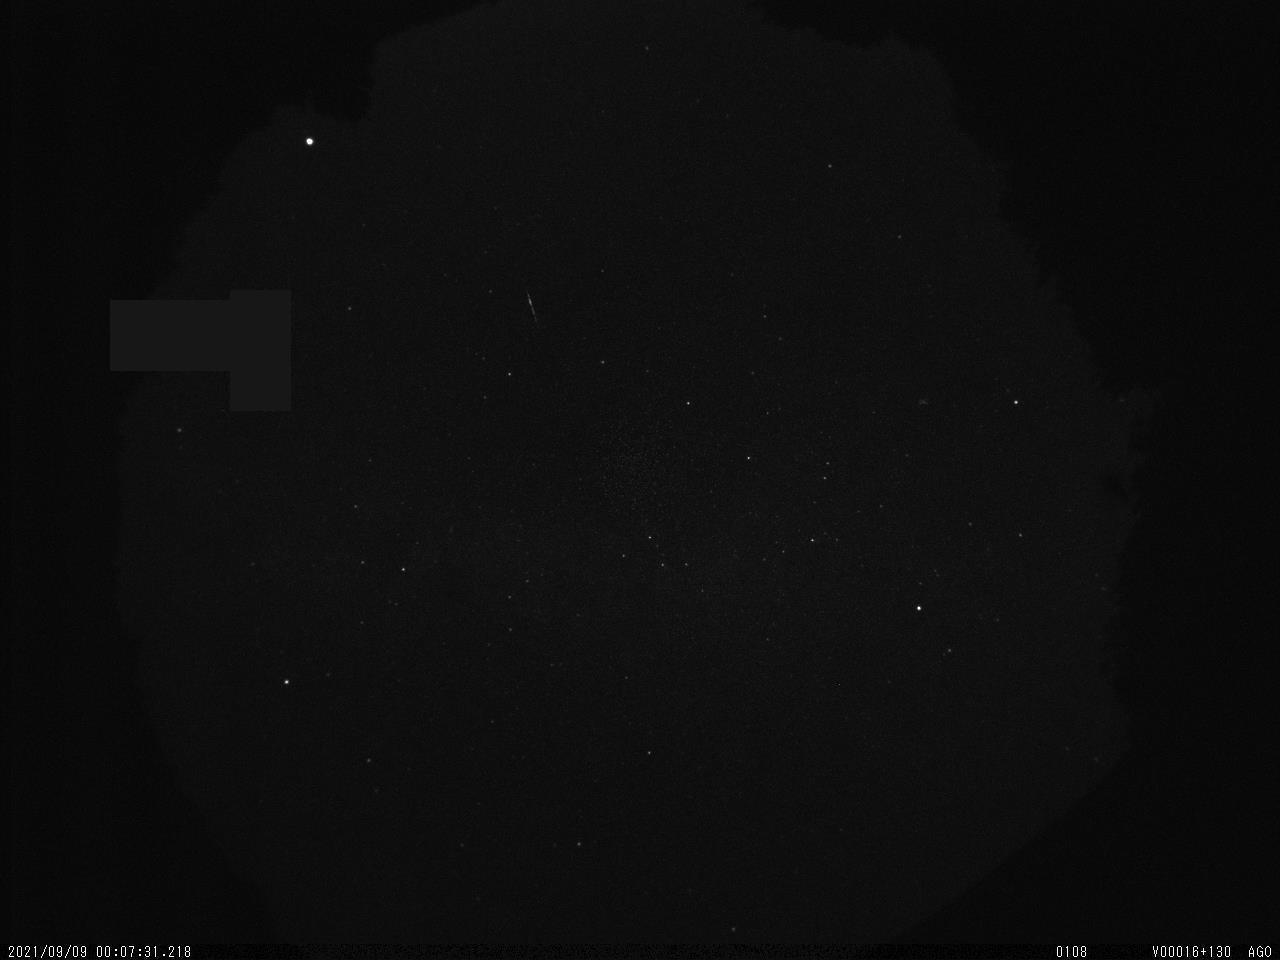Meteor: (524, 288, 541, 325)
